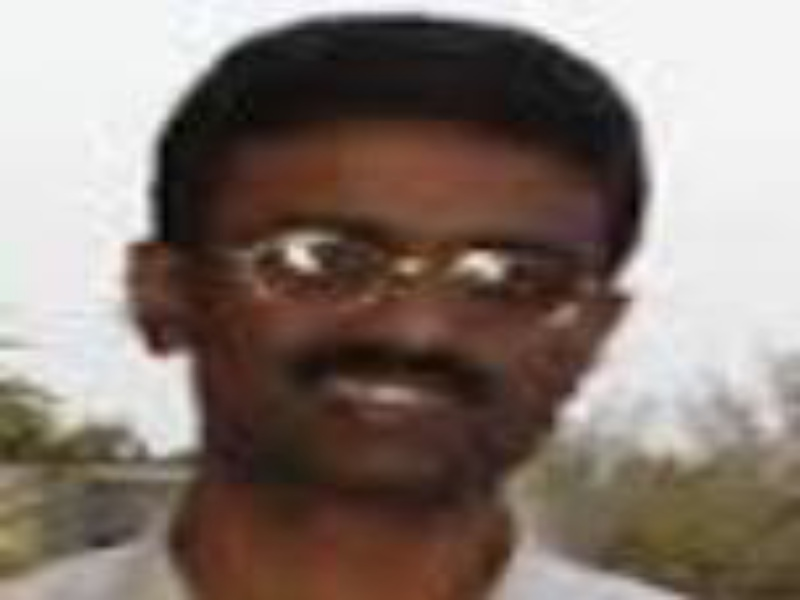TsisyArotava: (129, 22, 643, 544)
